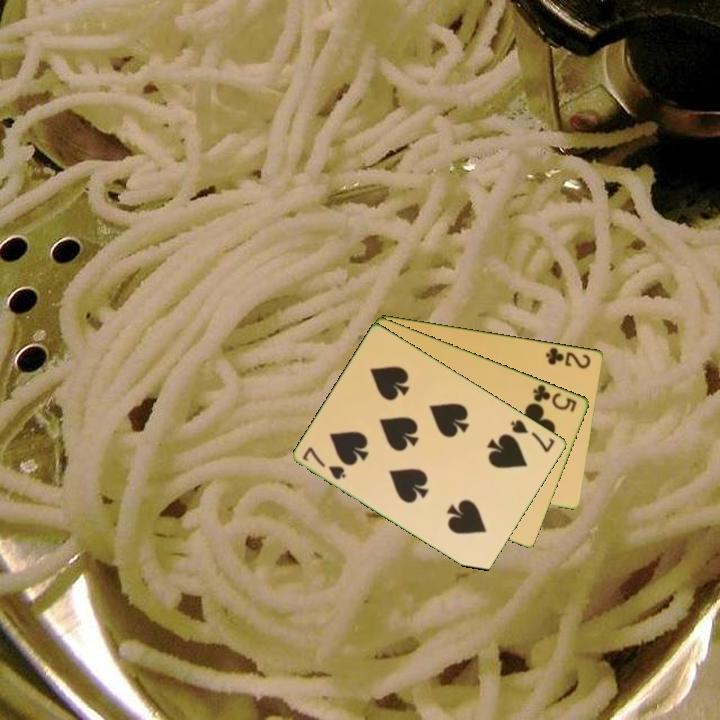2c: (543, 343, 594, 371)
5c: (530, 380, 580, 415)
7s: (299, 443, 349, 483), (507, 416, 558, 455)
